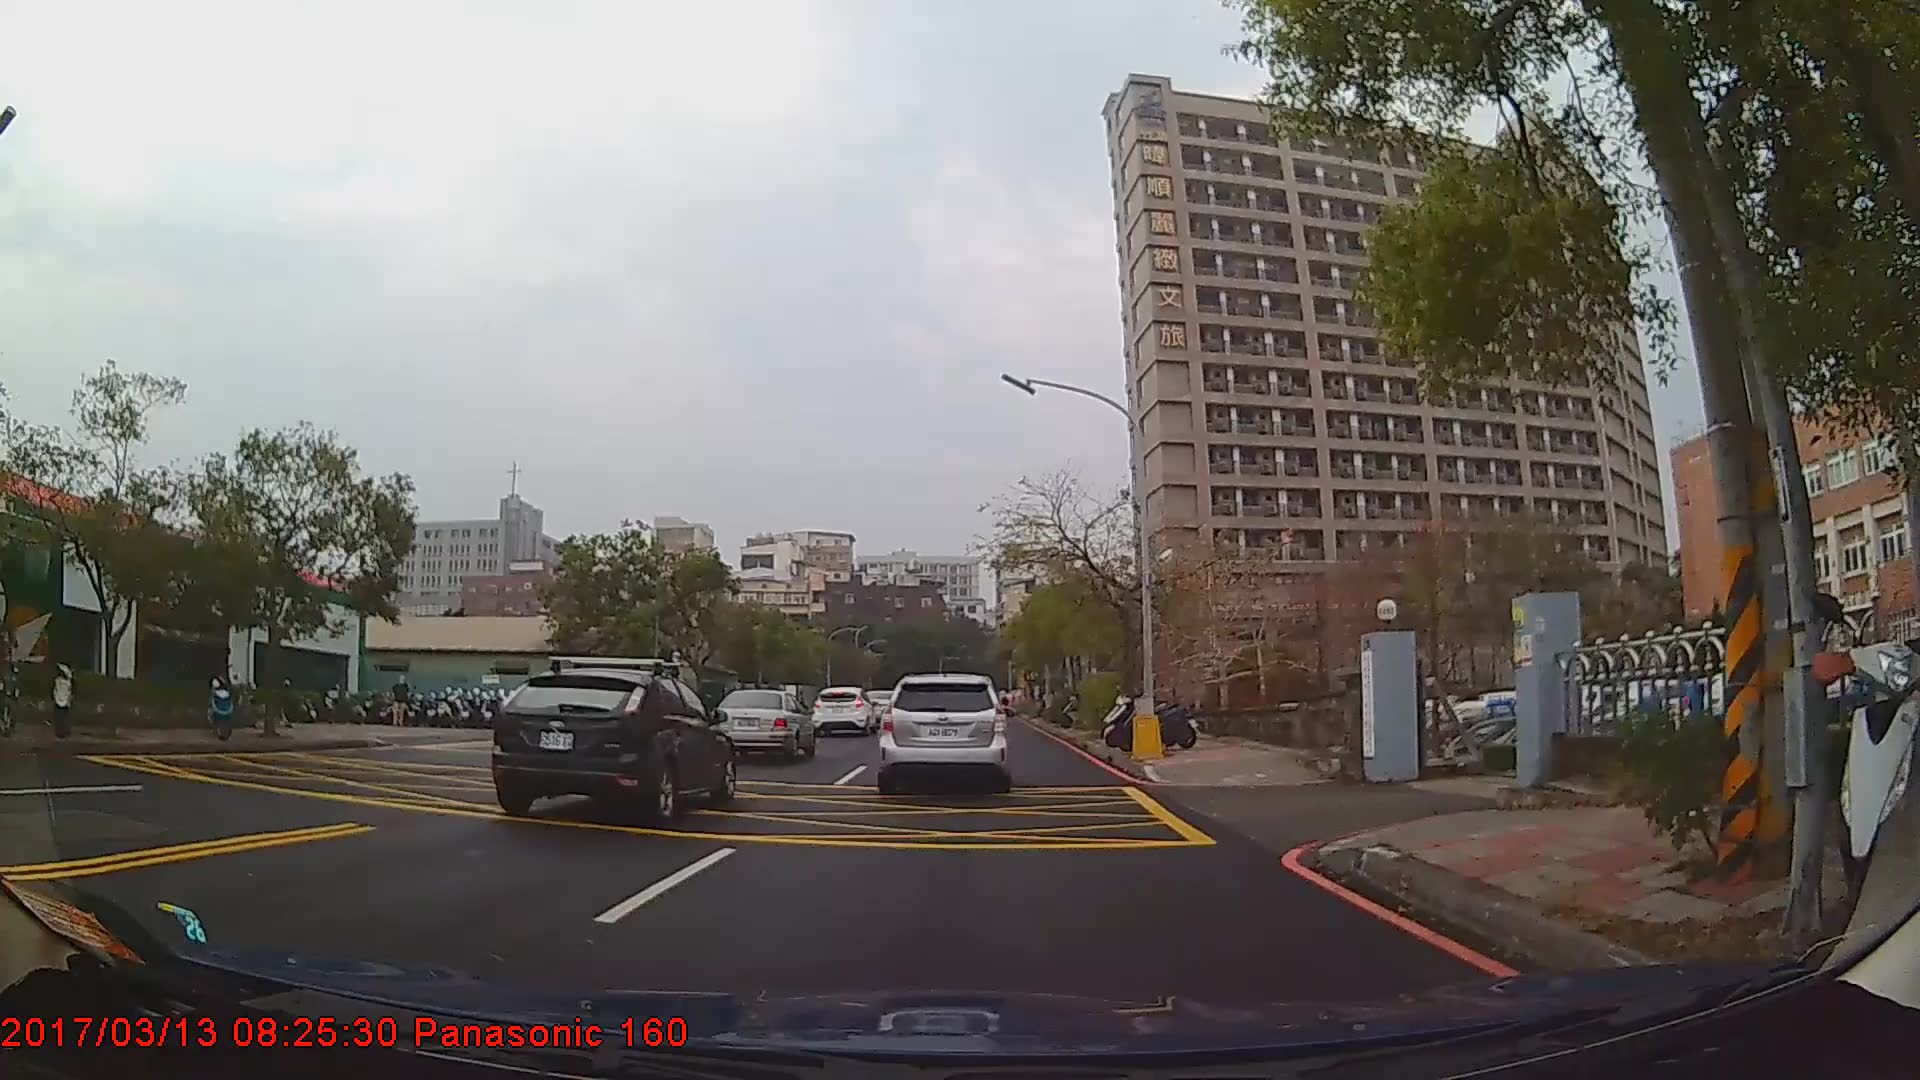pedestrian: (393, 676, 413, 728)
vehicle: (489, 666, 735, 820), (879, 673, 1007, 791), (0, 503, 64, 719), (712, 686, 815, 760), (811, 683, 877, 735)
